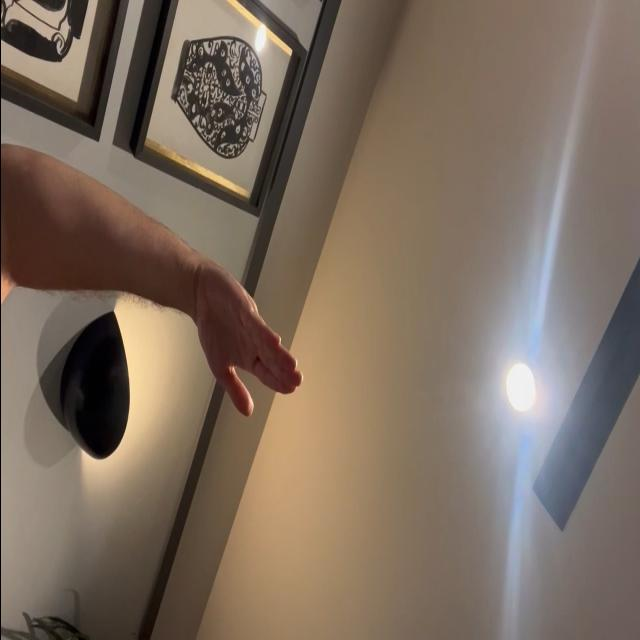Paper: (195, 256, 303, 422)
